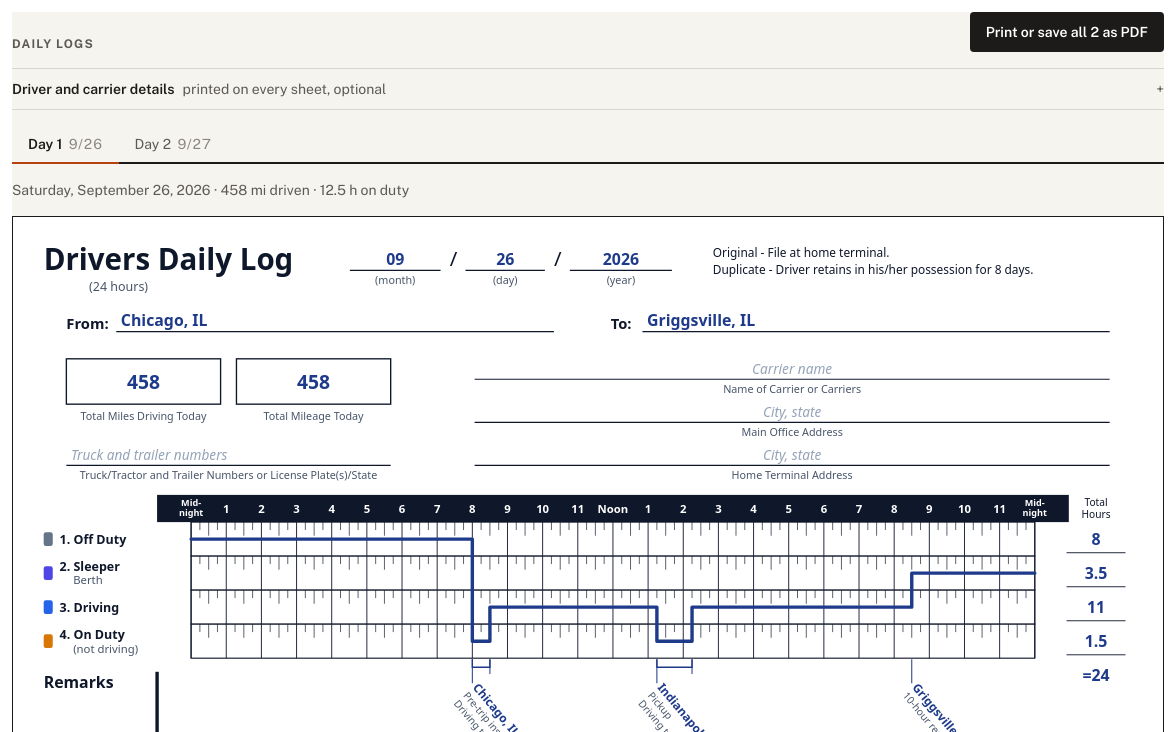
Scenario: shows one day at a time and switches with the tabs
Click the tab "Day 29/27" at [173, 145], box [119,126,227,164]
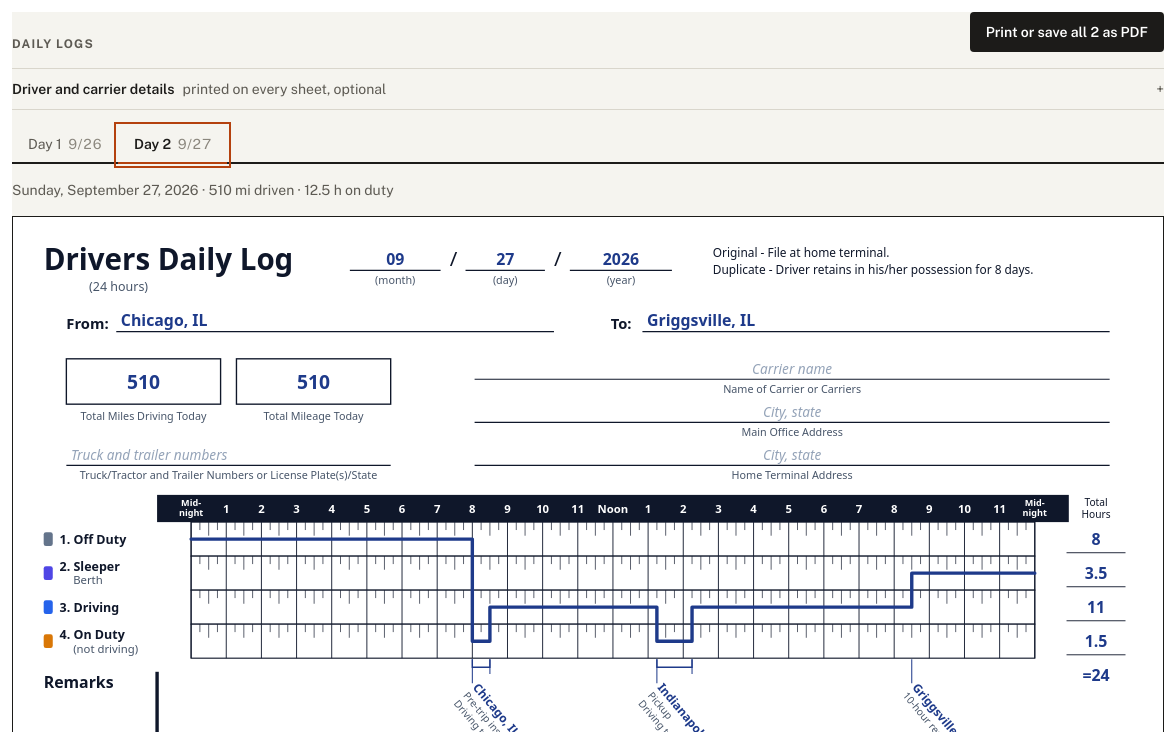
Now the text "Sunday, September 27, 2026 · 510 mi driven · 12.5 h on duty" is shown, box [12,182,394,198]
